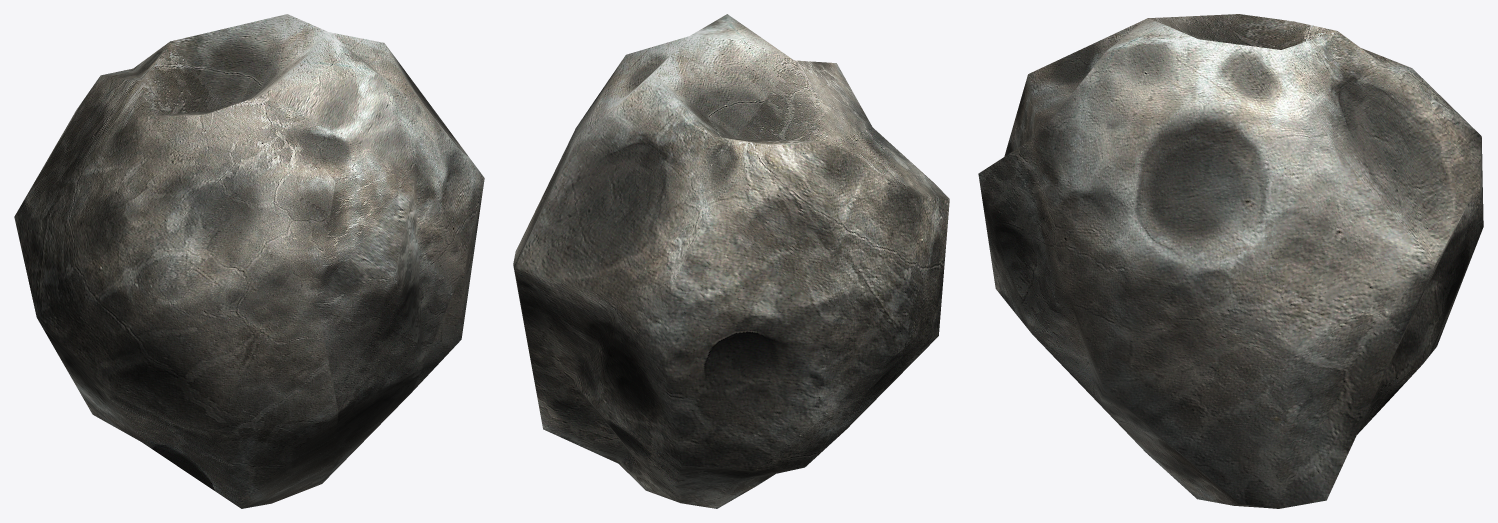
The model's file is meteor_mesh.fbx.
3 views of the same model, side by side, from view 1: azimuth 30°, elevation 25°; view 2: azimuth 150°, elevation 25°; view 3: azimuth 270°, elevation 25° (orthographic). The views are drawn at different scales.
Parts seen in each view (by area): view 1: Mesh; view 2: Mesh; view 3: Mesh.
Boxes of the visible parts, left/top/right/bottom form: Mesh: left=14, top=14, right=484, bottom=508; Mesh: left=513, top=14, right=949, bottom=508; Mesh: left=978, top=14, right=1483, bottom=508.
Size of the model in its own units: 1.22 by 1.34 by 1.28.
